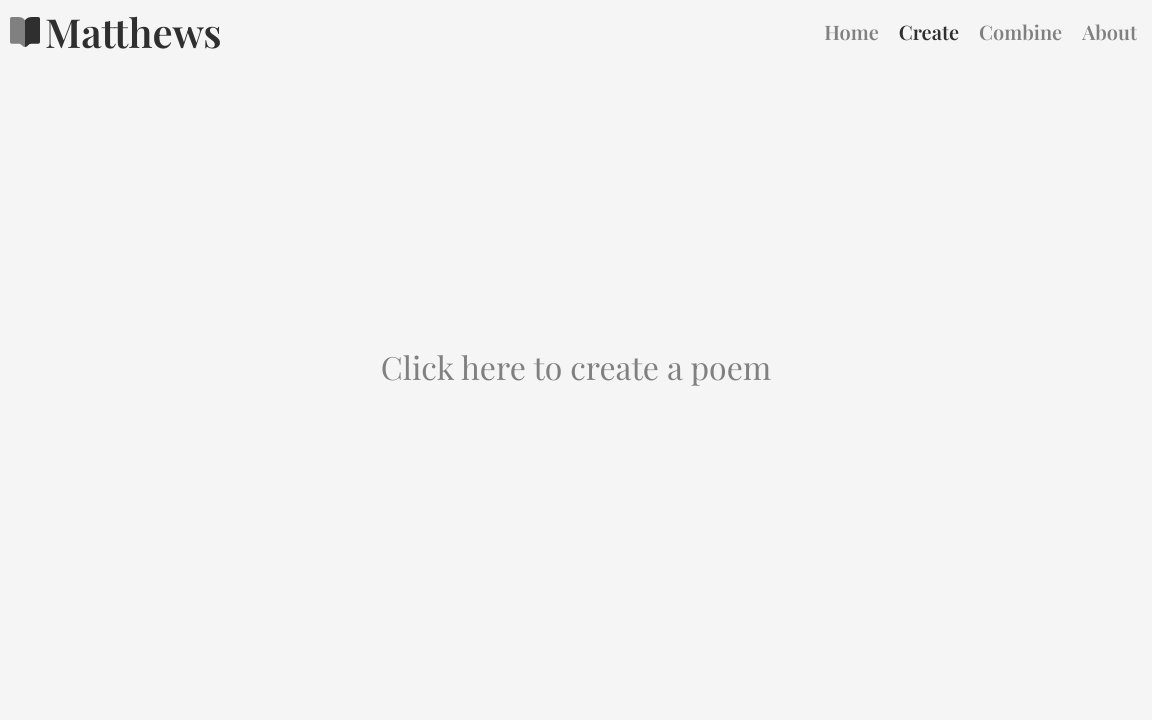
Scenario: Create component happy › generates a poem and displays it after clicking
Click the text with class "number-scroll": (577, 367) [381,345,772,388]
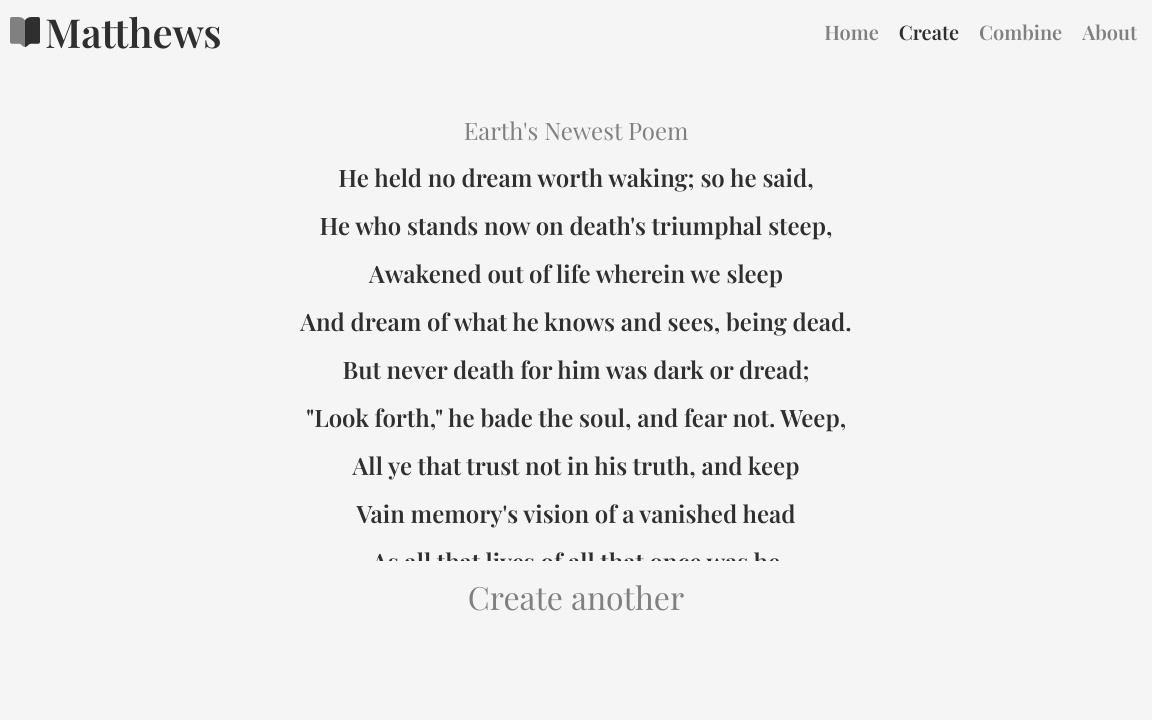
Expected: the element that starts with "Earth's Newest Poem" is shown, [130,100,1023,618]
Expected: the element with class "combined-poem" is shown, [130,100,1023,561]
